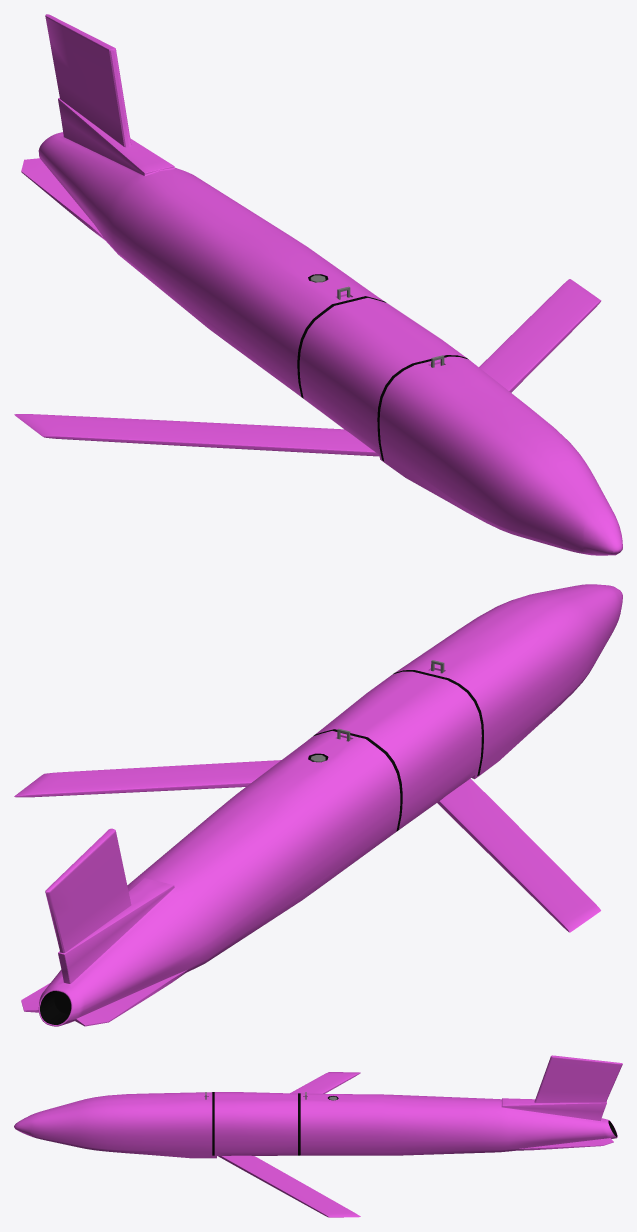
File: AGM-158_Rig.fbx
The picture shows the model from 3 angles, top to bottom: view 1: azimuth 30°, elevation 25°; view 2: azimuth 150°, elevation 25°; view 3: azimuth 270°, elevation 25°; orthographic projection. The views are drawn at different scales.
Visible parts, largest first — view 1: Body, R_Wing, L_Wing; view 2: Body, R_Wing, L_Wing; view 3: Body, L_Wing, R_Wing.
Boxes of the visible parts, bbox=[...] form: Body: bbox=[21, 14, 622, 555]; R_Wing: bbox=[14, 414, 379, 456]; L_Wing: bbox=[479, 279, 601, 392]; Body: bbox=[21, 584, 622, 1026]; R_Wing: bbox=[437, 778, 600, 932]; L_Wing: bbox=[14, 760, 281, 797]; Body: bbox=[14, 1055, 622, 1158]; L_Wing: bbox=[218, 1155, 360, 1217]; R_Wing: bbox=[290, 1072, 360, 1093].
Size of the model in its own units: 838 by 472 by 137.
